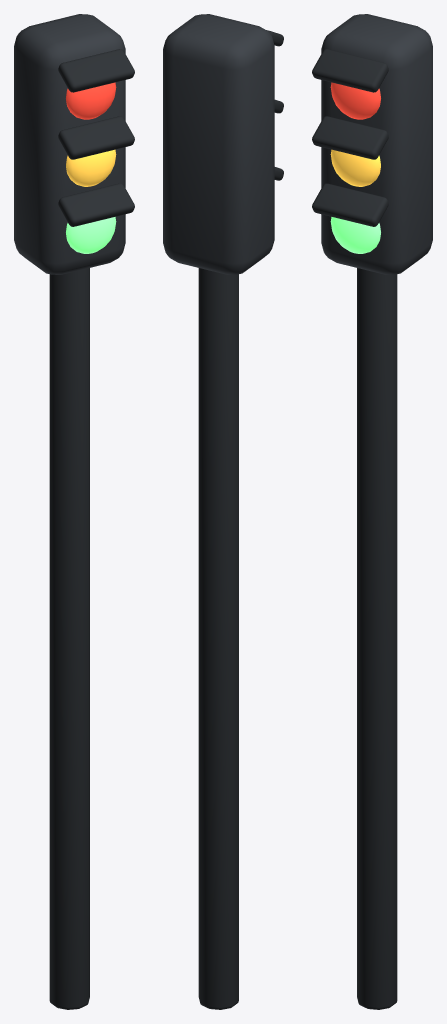
File: prop_traffic_light.glb
3 views of the same model, side by side, from view 1: azimuth 30°, elevation 25°; view 2: azimuth 150°, elevation 25°; view 3: azimuth 330°, elevation 25° (orthographic).
Visible parts, largest first — view 1: traffic_light; view 2: traffic_light; view 3: traffic_light.
Boxes of the visible parts, bbox=[...] form: traffic_light: bbox=[14, 14, 134, 1009]; traffic_light: bbox=[163, 14, 283, 1009]; traffic_light: bbox=[312, 14, 432, 1009].
Bounding box in the file's own units: 0.2399 × 2.61 × 0.2686.
4 materials, 4 textured.
